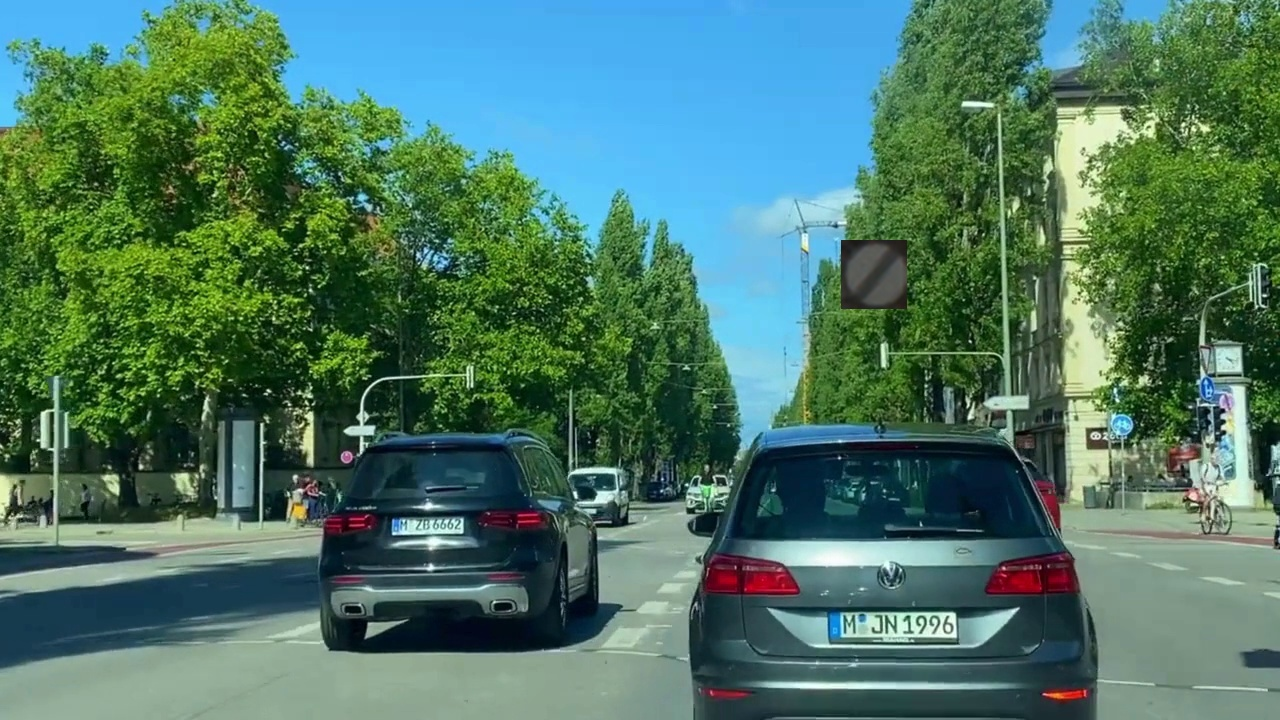End limits: (841, 240, 907, 309)
